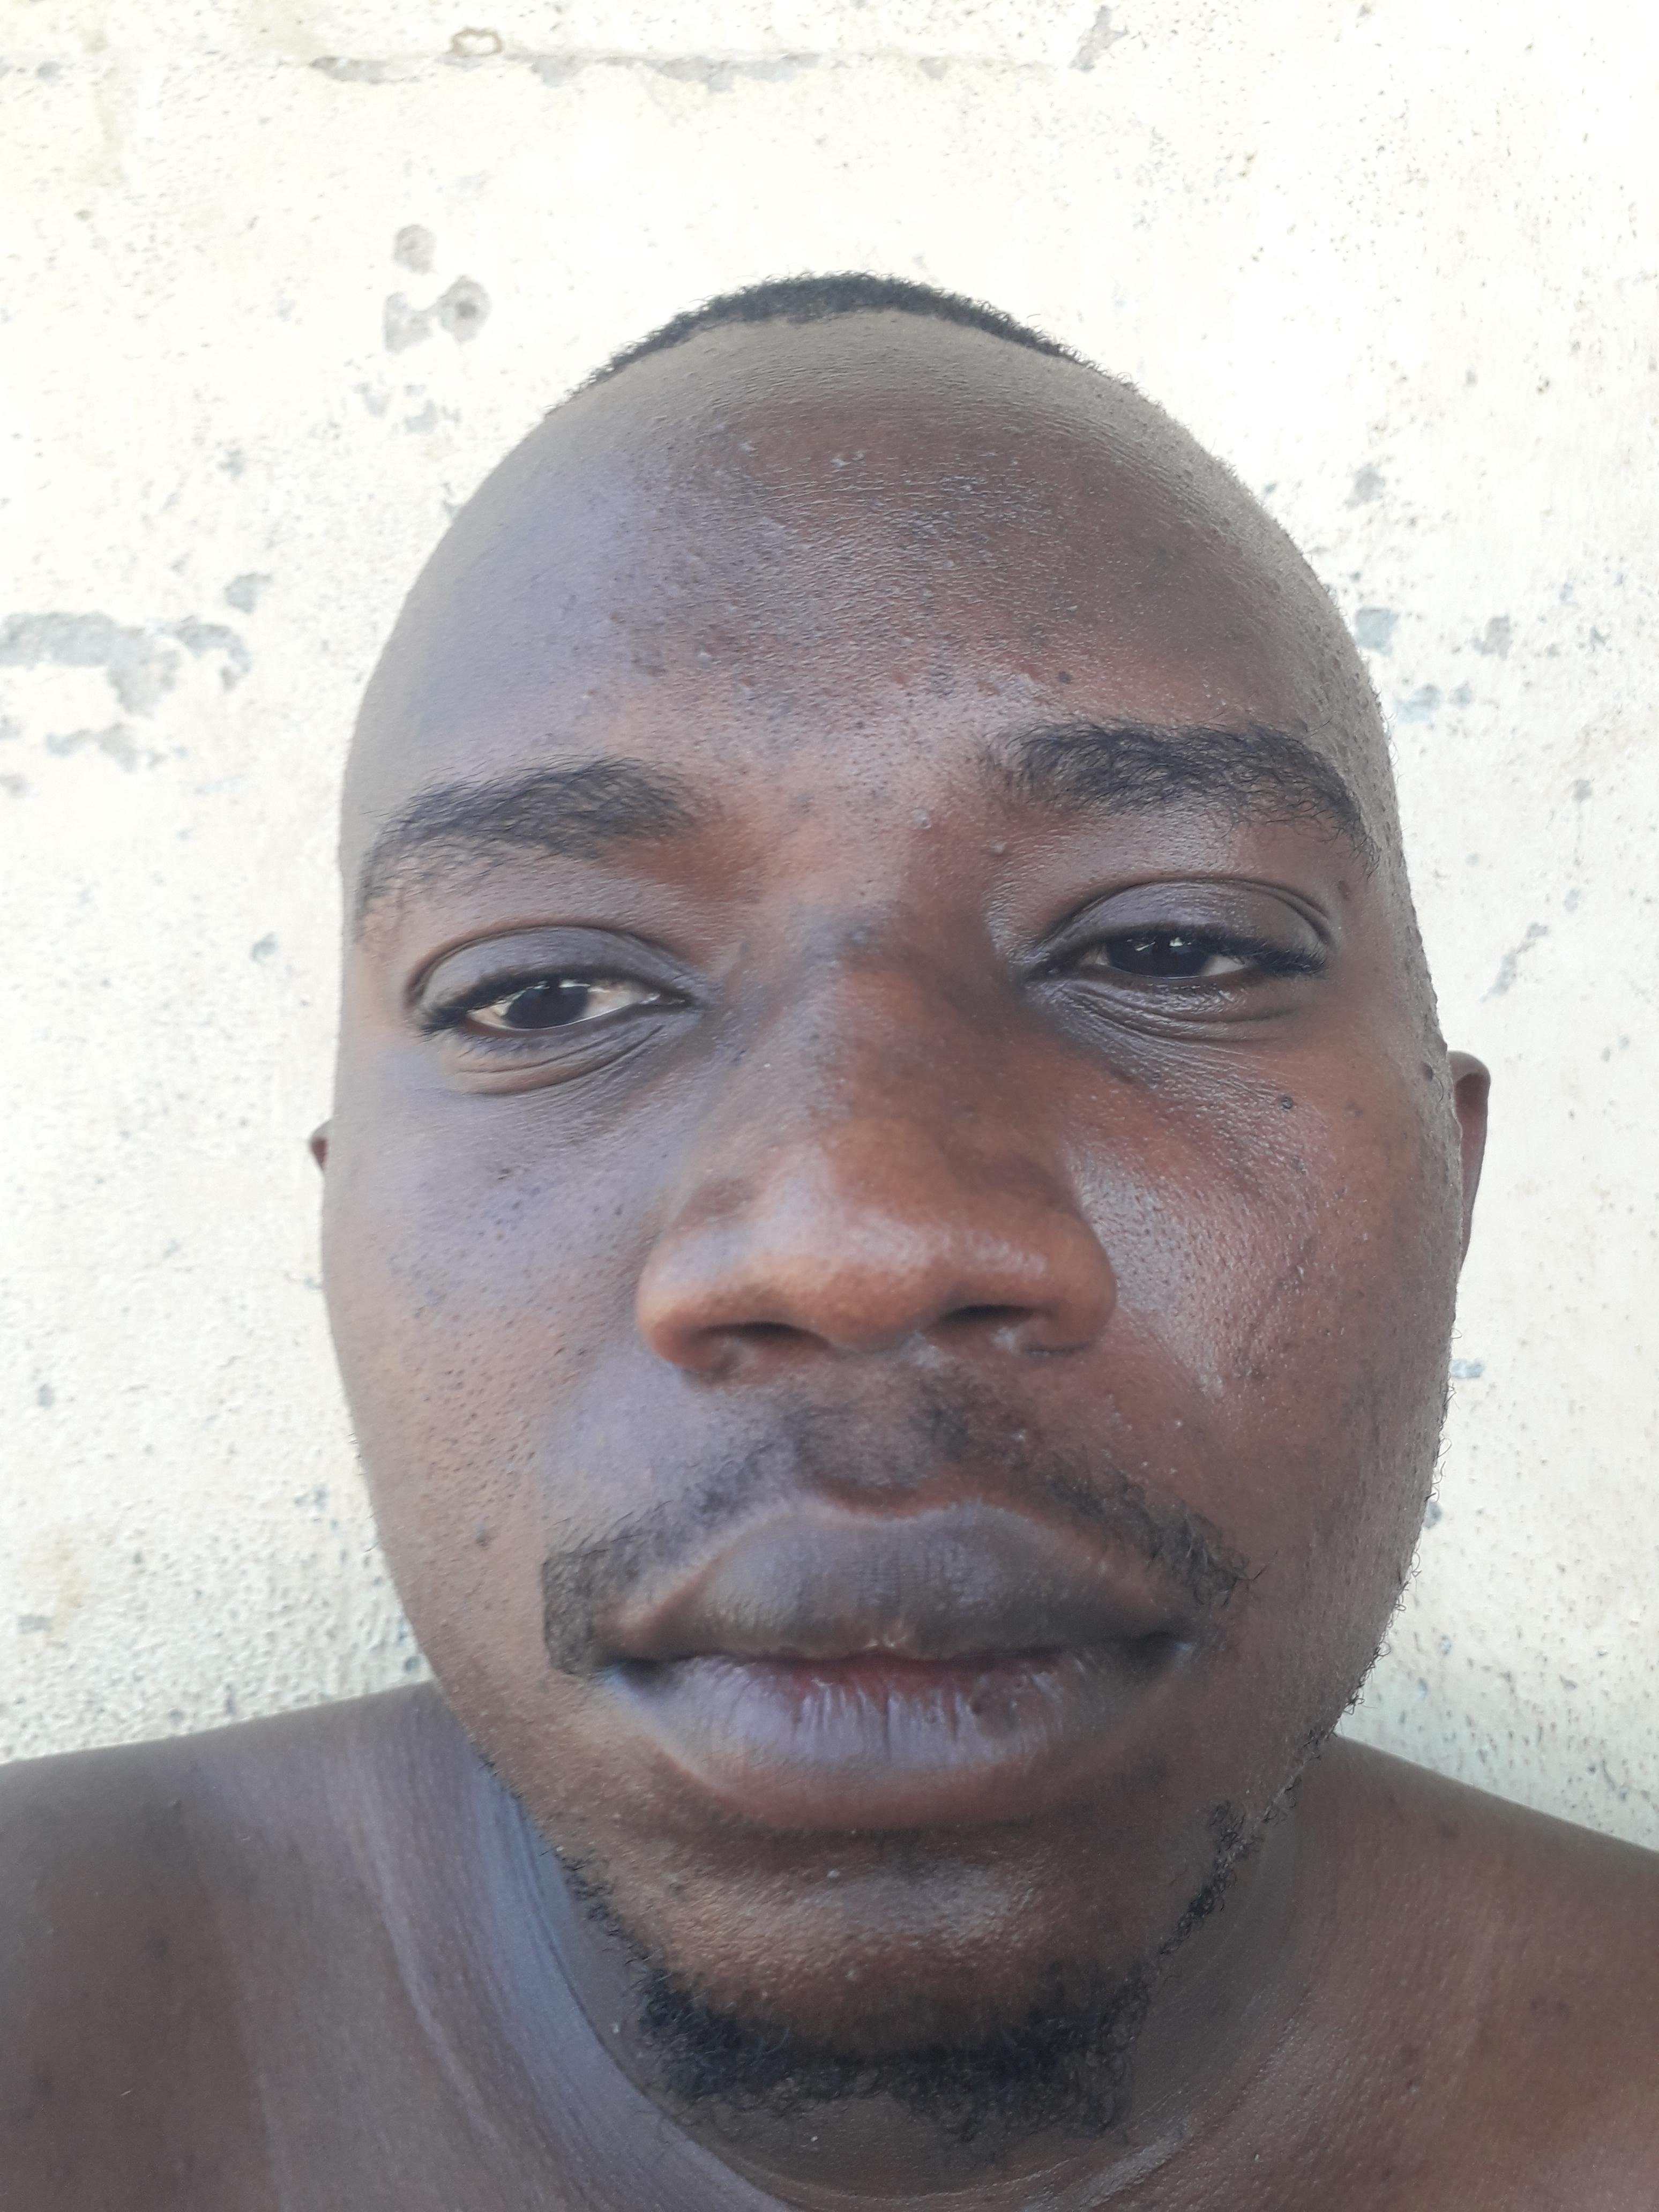Acne: (1101, 1386, 1141, 1440), (657, 1862, 699, 1907), (1004, 1407, 1044, 1449), (756, 509, 800, 543), (875, 658, 918, 688), (840, 918, 875, 951), (687, 637, 720, 672), (824, 446, 871, 470), (911, 798, 938, 838), (577, 681, 608, 714), (986, 831, 1016, 862), (1014, 660, 1051, 685), (737, 434, 770, 458), (1168, 1407, 1194, 1437), (842, 1959, 866, 1989), (687, 543, 711, 573), (713, 418, 739, 442), (971, 676, 997, 700), (918, 580, 943, 606), (603, 599, 626, 627), (823, 1862, 849, 1885), (730, 672, 756, 695)
Englarged-Pores: (1096, 1183, 1317, 1353), (406, 1231, 519, 1550), (762, 698, 945, 801)
Eyebags: (376, 996, 730, 1151), (1025, 941, 1307, 1108)
Wrinkles: (1117, 1294, 1216, 1407), (746, 474, 978, 503)
